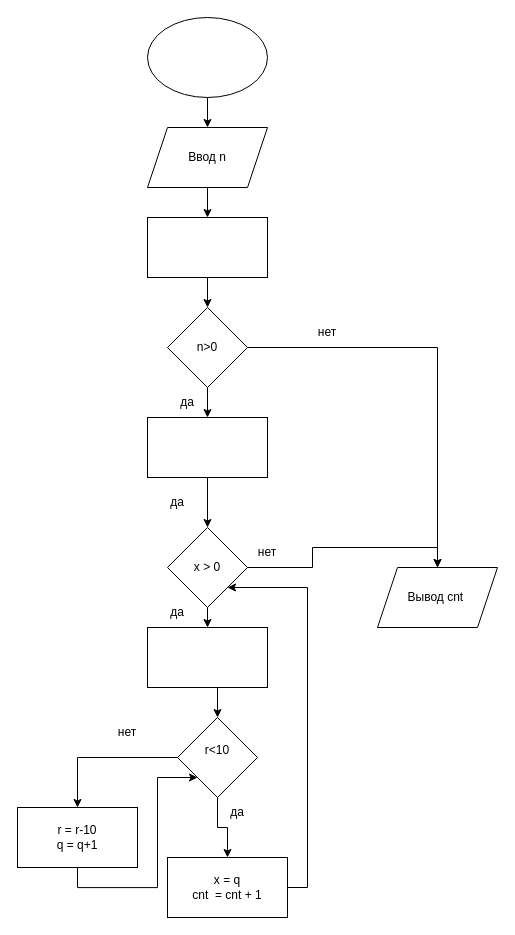
Some shapes in this 515 by 935 pixel diagram are drawn without their labels. The shapes that lost their labels are listed below. From the top down, each one's centre as x and y in pixels, then its label:
At point (207, 57): "Начало".
At point (207, 247): "cnt = 1".
At point (207, 447): "cnt = 0 x = n".
At point (207, 657): "q = 0 r = x".
